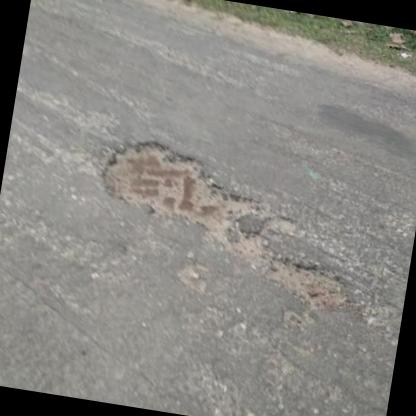pothole: (87, 128, 281, 266), (258, 250, 356, 314)
